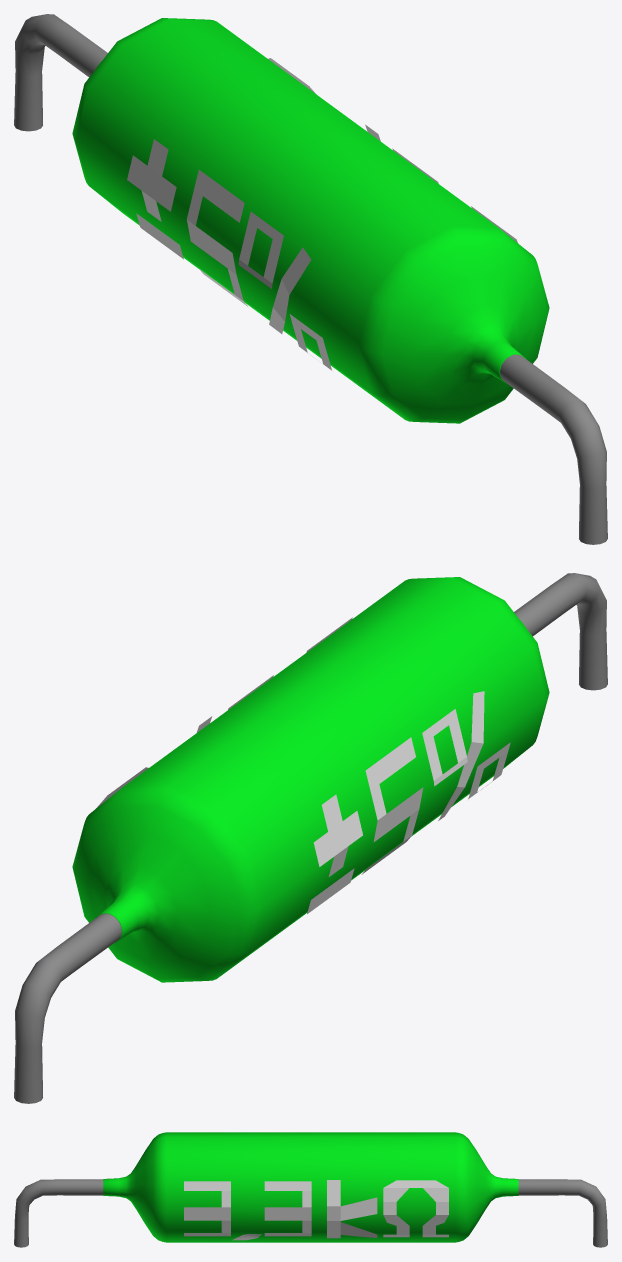
File: resistor_cylinder_3d3kOhm.fbx
The picture shows the model from 3 angles, top to bottom: view 1: azimuth 30°, elevation 25°; view 2: azimuth 150°, elevation 25°; view 3: azimuth 270°, elevation 25°; orthographic projection. The views are drawn at different scales.
Parts seen in each view (by area): view 1: rezystor_cylinder 3d3kOhm; view 2: rezystor_cylinder 3d3kOhm; view 3: rezystor_cylinder 3d3kOhm.
Boxes of the visible parts, x1,y1,x2,y2 form: rezystor_cylinder 3d3kOhm: [14, 14, 607, 544]; rezystor_cylinder 3d3kOhm: [14, 573, 607, 1103]; rezystor_cylinder 3d3kOhm: [14, 1132, 607, 1247].
Size of the model in its own units: 210 by 214 by 1074.
